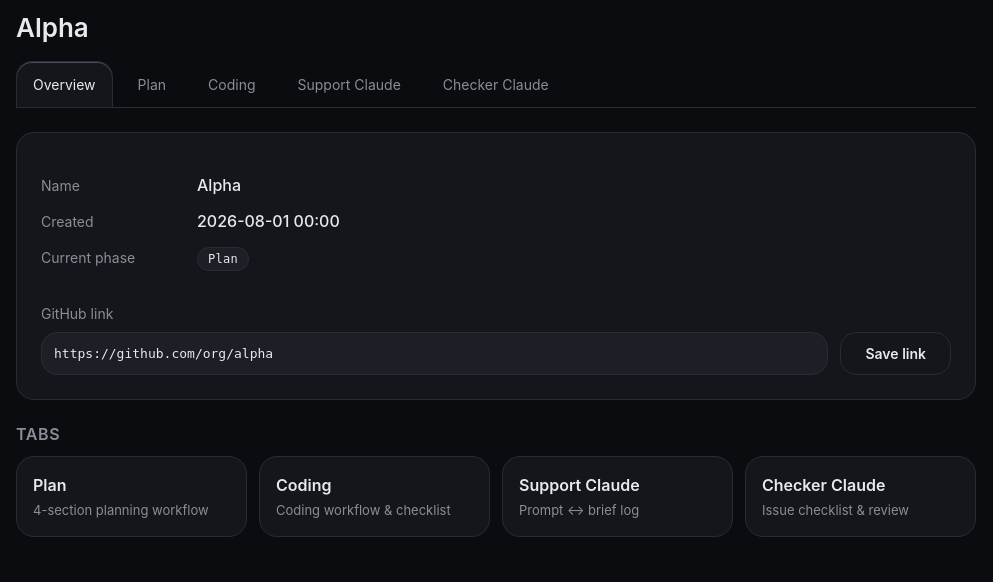
Test: Overview tab › saves an edited github link via PUT
This screenshot has width=993, height=582.
Replace the text in the field labelled "GitHub link" with "https://github.com/org/beta" at (435, 353), box [41,332,828,374]
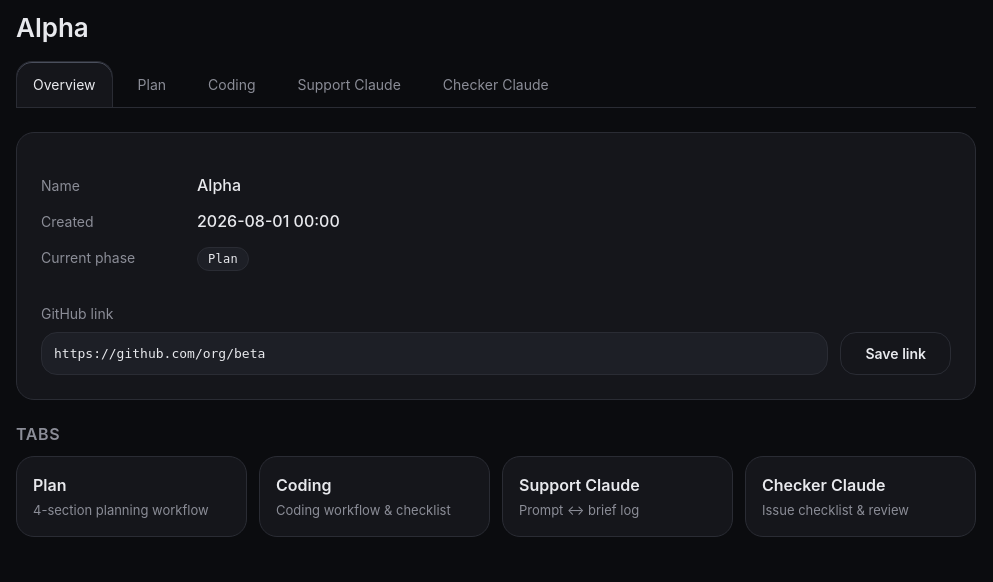
Click the button "Save link".
click(896, 353)  # box [840,332,951,374]
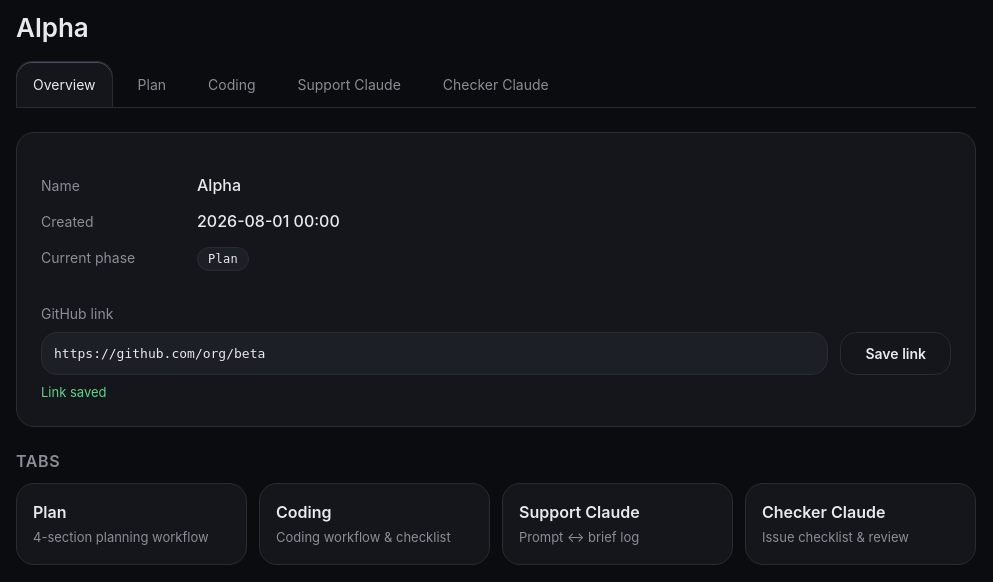
Expected: the text "Link saved" is shown, [41,384,106,400]
